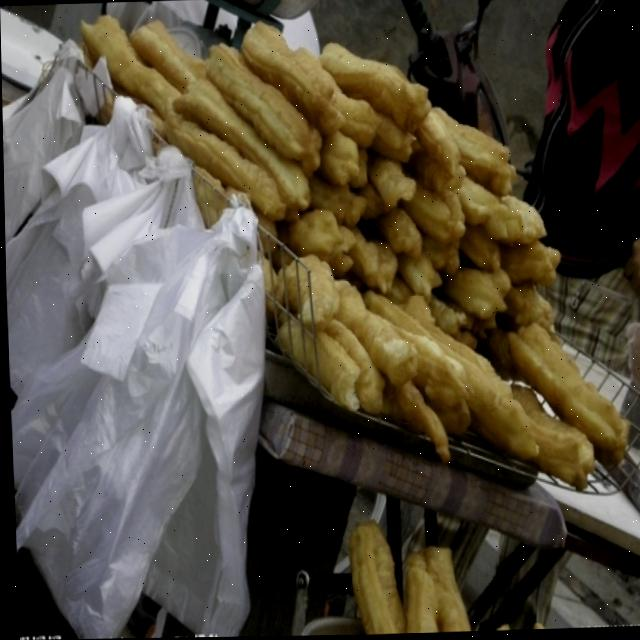炸货点心: (37, 0, 637, 511)
